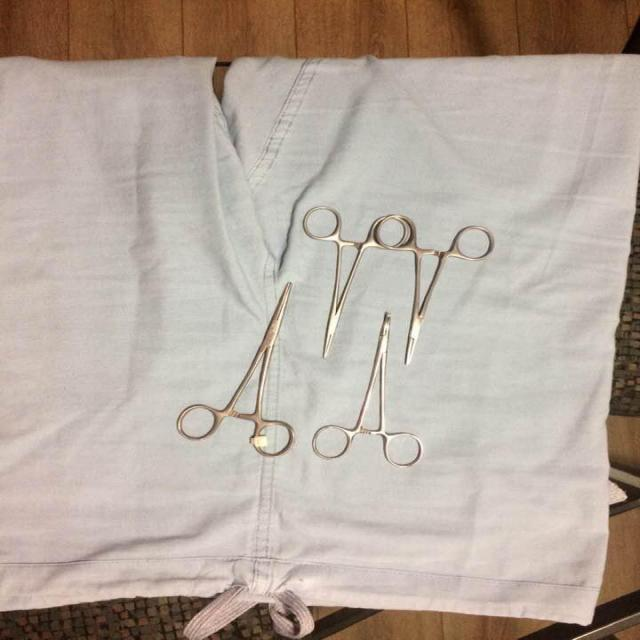Hemostat: (175, 280, 296, 459), (373, 212, 496, 366), (310, 310, 424, 470), (300, 206, 412, 360)
